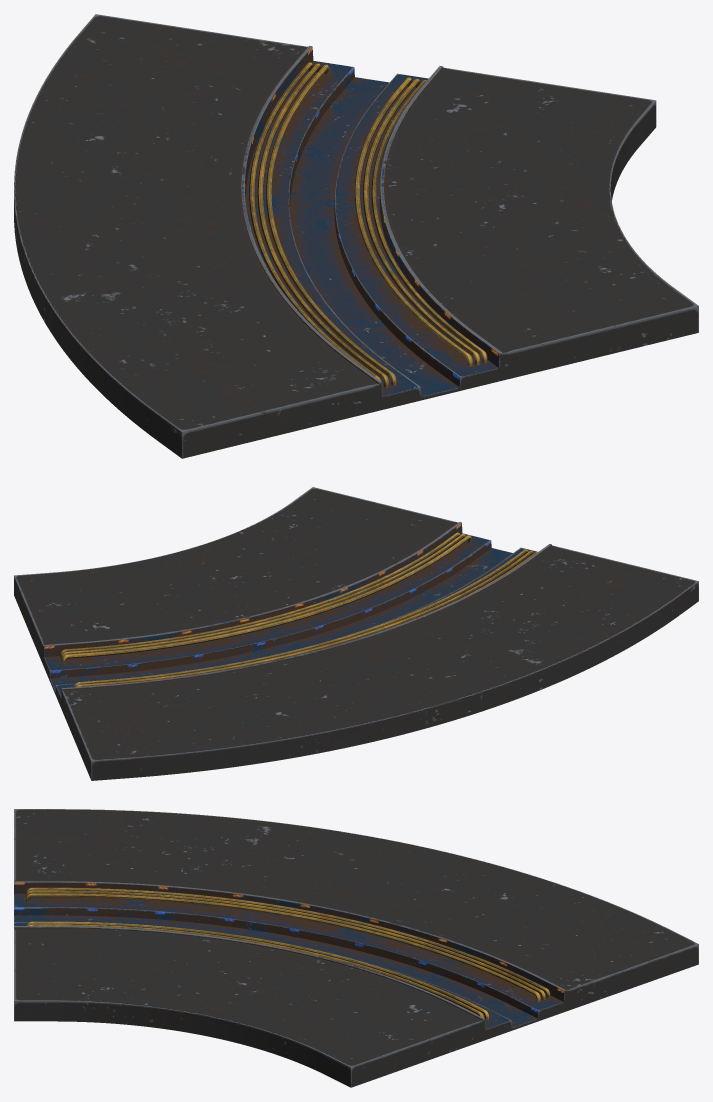
File: SM_Floor_3.fbx
3 renders of one model, top to bottom at view 1: azimuth 30°, elevation 25°; view 2: azimuth 150°, elevation 25°; view 3: azimuth 270°, elevation 25°, orthographic. The views are drawn at different scales.
Parts seen in each view (by area): view 1: SM_Floor_3; view 2: SM_Floor_3; view 3: SM_Floor_3.
Boxes of the visible parts, box(x1,y1,x2,y2) form: SM_Floor_3: box(14, 14, 698, 458); SM_Floor_3: box(14, 487, 698, 780); SM_Floor_3: box(14, 809, 698, 1087).
Size of the model in its own units: 6818 by 262 by 7638.
